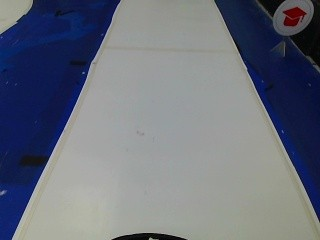school: (272, 0, 313, 34)
